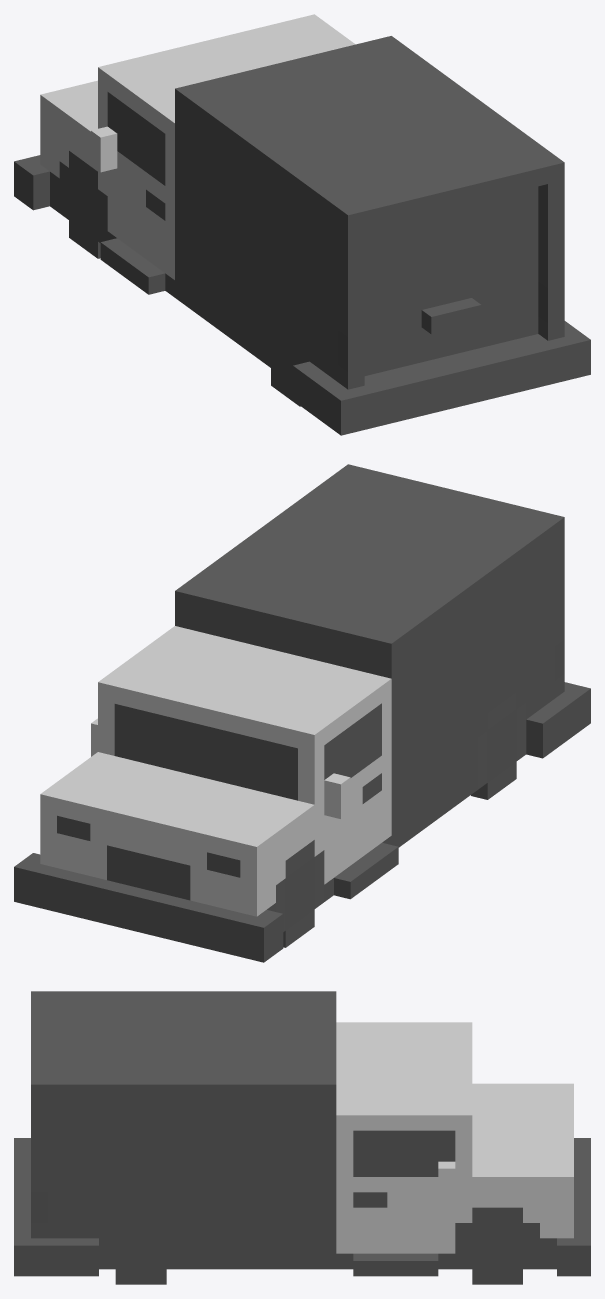
Rendered from veh_truck1.obj.
The picture shows the model from 3 angles, top to bottom: view 1: azimuth 30°, elevation 25°; view 2: azimuth 150°, elevation 25°; view 3: azimuth 270°, elevation 25°; orthographic projection. The views are drawn at different scales.
Bounding box in the file's own units: 15 × 13 × 34.
